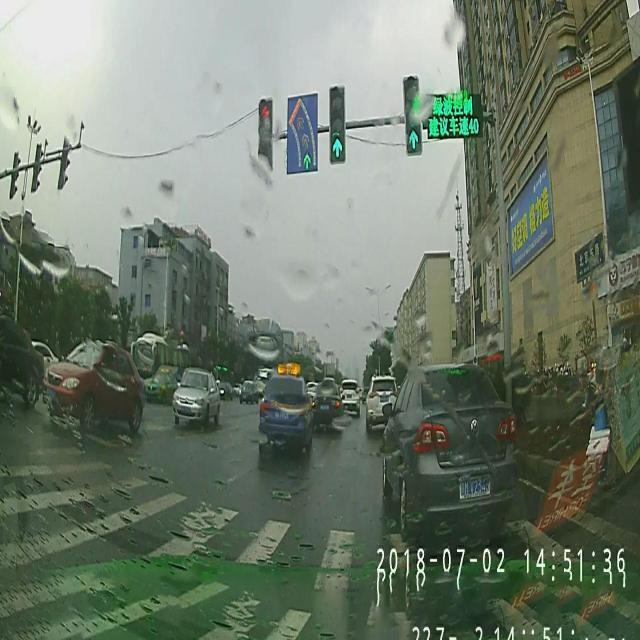car: (376, 348, 524, 540), (40, 329, 152, 441), (255, 357, 314, 463), (0, 311, 44, 413), (167, 360, 224, 428), (365, 369, 398, 438), (312, 376, 346, 428), (148, 362, 180, 406), (339, 368, 362, 419), (240, 374, 258, 412)
